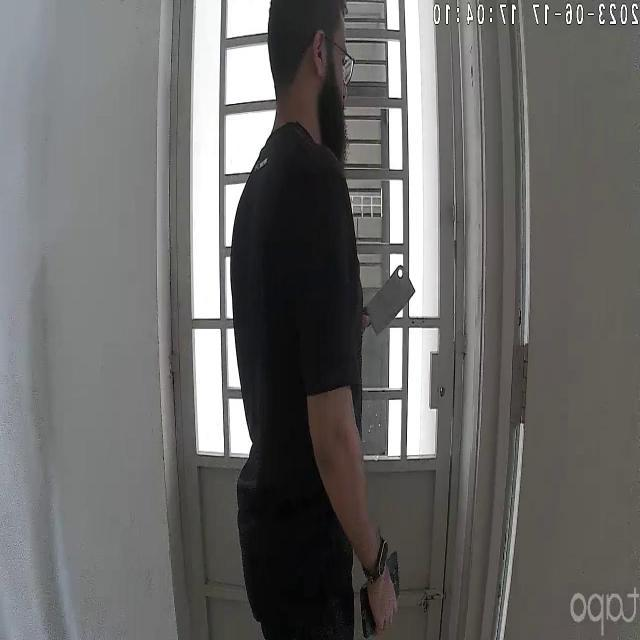Knife: (362, 260, 421, 337)
